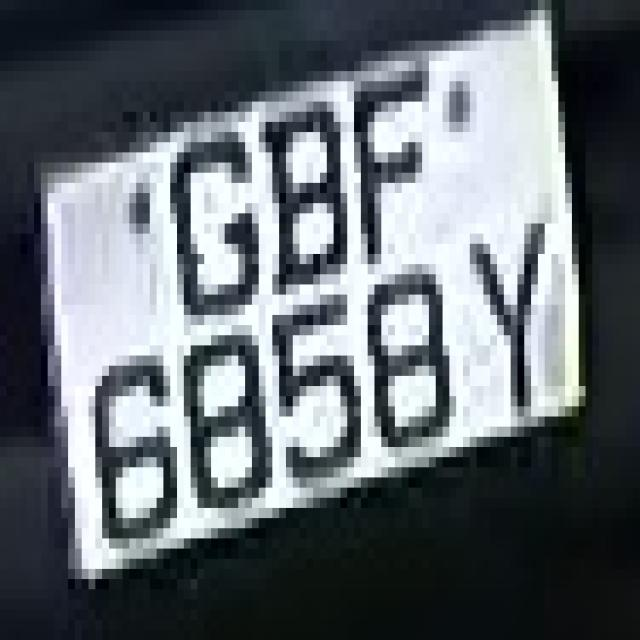5: (252, 294, 361, 488)
6: (68, 345, 184, 559)
8: (361, 264, 470, 478), (177, 305, 286, 518)
B: (245, 61, 347, 335)
F: (327, 41, 442, 264)
G: (157, 92, 266, 356)
Y: (470, 214, 558, 406)
